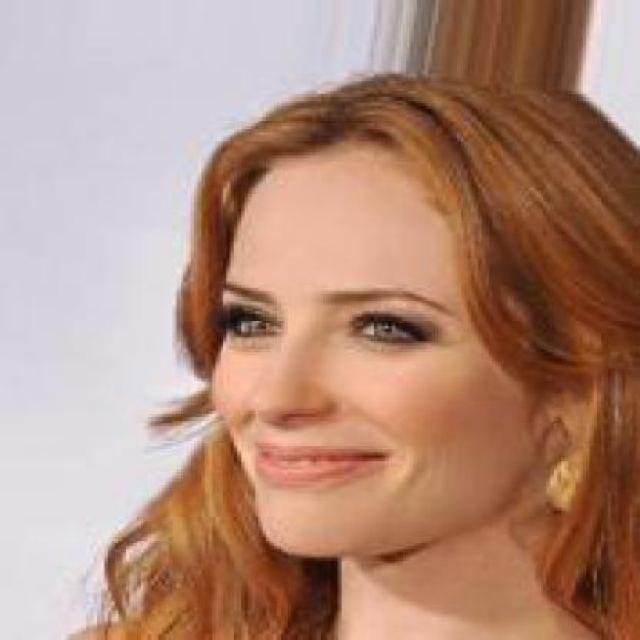closed-mouth: (246, 439, 394, 487)
